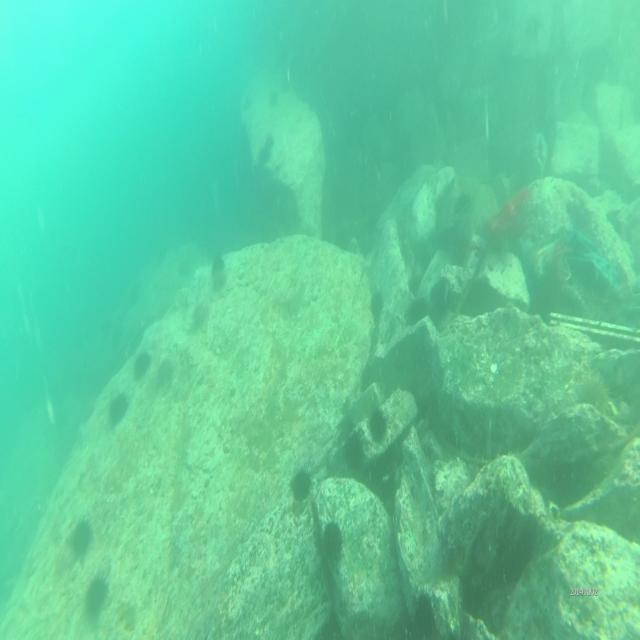echinus: (578, 370, 613, 409), (82, 579, 108, 621), (66, 515, 90, 551), (414, 597, 437, 633), (287, 465, 311, 495), (322, 523, 341, 558), (109, 390, 127, 425), (371, 409, 387, 442), (134, 348, 146, 372)
